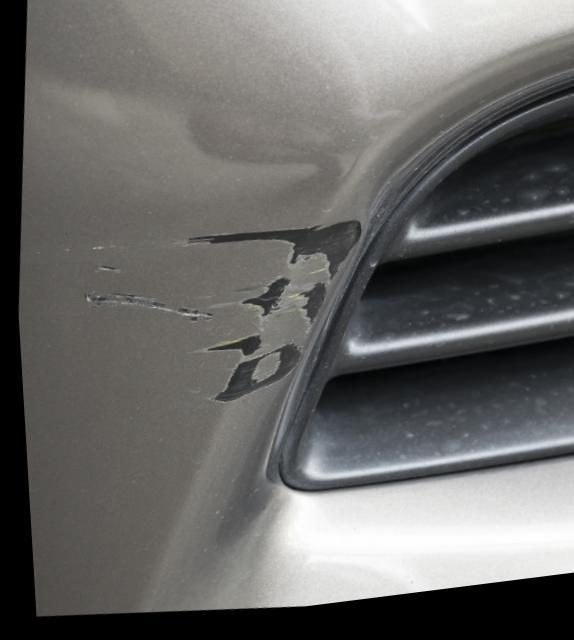scratch: (53, 222, 360, 412)
